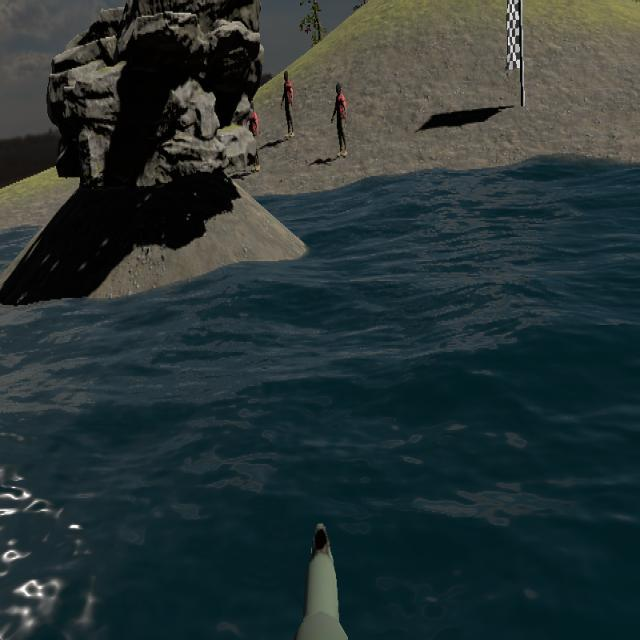Human: (331, 82, 347, 158), (281, 70, 295, 139)
